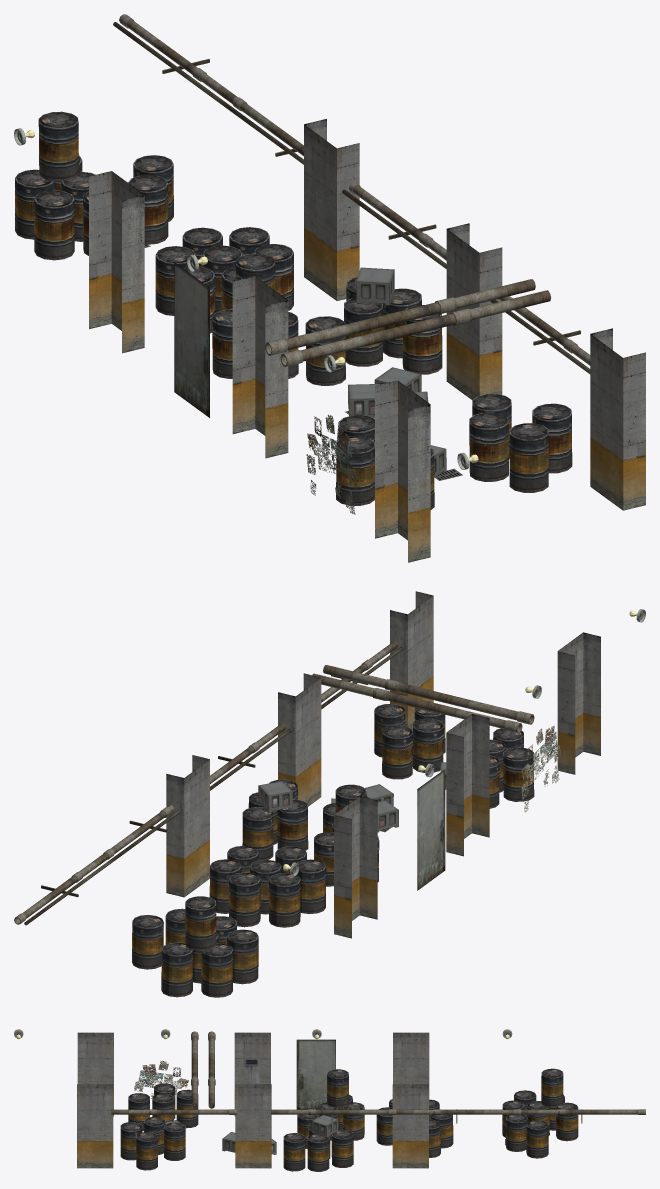
Rendered from map.FBX.
The picture shows the model from 3 angles, top to bottom: view 1: azimuth 30°, elevation 25°; view 2: azimuth 150°, elevation 25°; view 3: azimuth 270°, elevation 25°; orthographic projection. The views are drawn at different scales.
Visible parts, largest first — view 1: Object006, Object009, Object008, Object007, Object011, Object010, Plane008, Body_brid3, Body_brid4, DrawCall26, DrawCall29, DrawCall_5 (+26 smaller); view 2: Object008, Object007, Object006, Object011, Object010, Object009, Plane008, Body_brid4, Body_brid3, DrawCall29, DrawCall23, DrawCall20 (+21 smaller); view 3: Object009, Object010, Object011, Plane008, Object006, Object008, Object007, Plane003, DrawCall29, DrawCall_4, DrawCall30, DrawCall_7 (+29 smaller).
Boxes of the visible parts, x1,y1,x2,y2 form: Object006: [375, 380, 430, 562]; Object009: [590, 328, 645, 510]; Object008: [89, 171, 144, 353]; Object007: [232, 276, 288, 458]; Object011: [304, 119, 359, 300]; Object010: [446, 223, 502, 400]; Plane008: [174, 262, 209, 417]; Body_brid3: [265, 279, 535, 355]; Body_brid4: [280, 290, 550, 366]; DrawCall26: [34, 190, 74, 260]; DrawCall29: [38, 111, 78, 181]; DrawCall_5: [509, 423, 548, 492]; Object008: [334, 796, 377, 938]; Object007: [446, 714, 489, 856]; Object006: [557, 632, 600, 774]; Object011: [166, 755, 209, 897]; Object010: [278, 673, 321, 806]; Object009: [390, 591, 433, 729]; Plane008: [417, 769, 445, 890]; Body_brid4: [323, 665, 534, 724]; Body_brid3: [312, 673, 522, 733]; DrawCall29: [185, 896, 216, 950]; DrawCall23: [161, 942, 193, 997]; DrawCall20: [269, 873, 300, 927]; Object009: [77, 1084, 113, 1168]; Object010: [235, 1084, 271, 1168]; Object011: [392, 1084, 428, 1168]; Plane008: [296, 1039, 335, 1109]; Object006: [77, 1032, 113, 1116]; Object008: [393, 1032, 429, 1098]; Object007: [234, 1032, 270, 1116]; Plane003: [134, 1060, 188, 1098]; DrawCall29: [541, 1068, 563, 1107]; DrawCall_4: [283, 1133, 305, 1171]; DrawCall30: [526, 1120, 548, 1158]; DrawCall_7: [331, 1129, 353, 1167].
Bounding box in the file's own units: 107 × 59.03 × 386.
10 materials, 10 textured.
